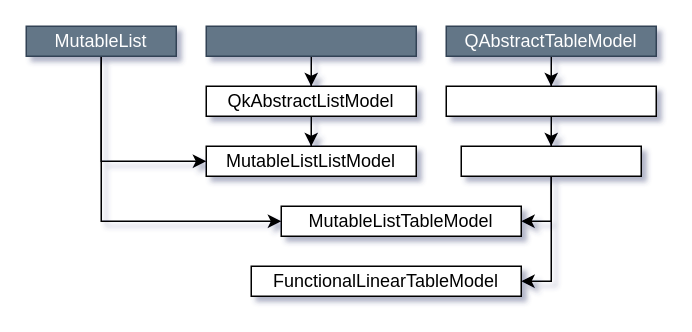
The diagram is 692 pixels wide and 332 high, and some of its shapes have lost their labels. The shapes that lost their labels are listed below. From the top down, each one's centre as x and y in pixels, then its label:
the point at 310,40: QAbstractListModel
the point at 550,100: QkAbstractTableModel
the point at 550,160: LinearTableModel
